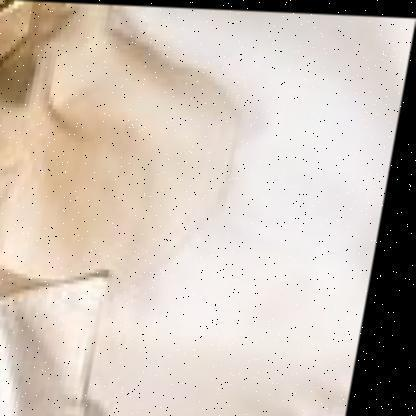coffee: (1, 39, 133, 194)
